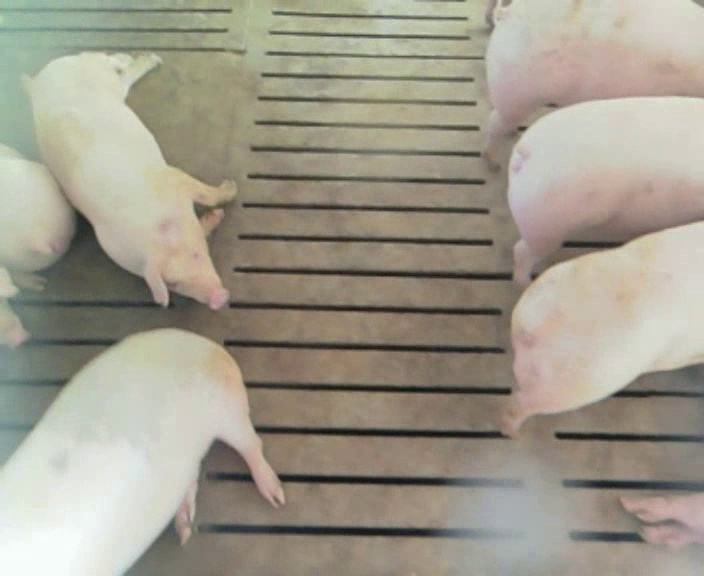pig: (0, 329, 282, 573), (23, 52, 235, 309), (503, 222, 703, 435), (508, 97, 703, 287), (486, 2, 703, 166)
